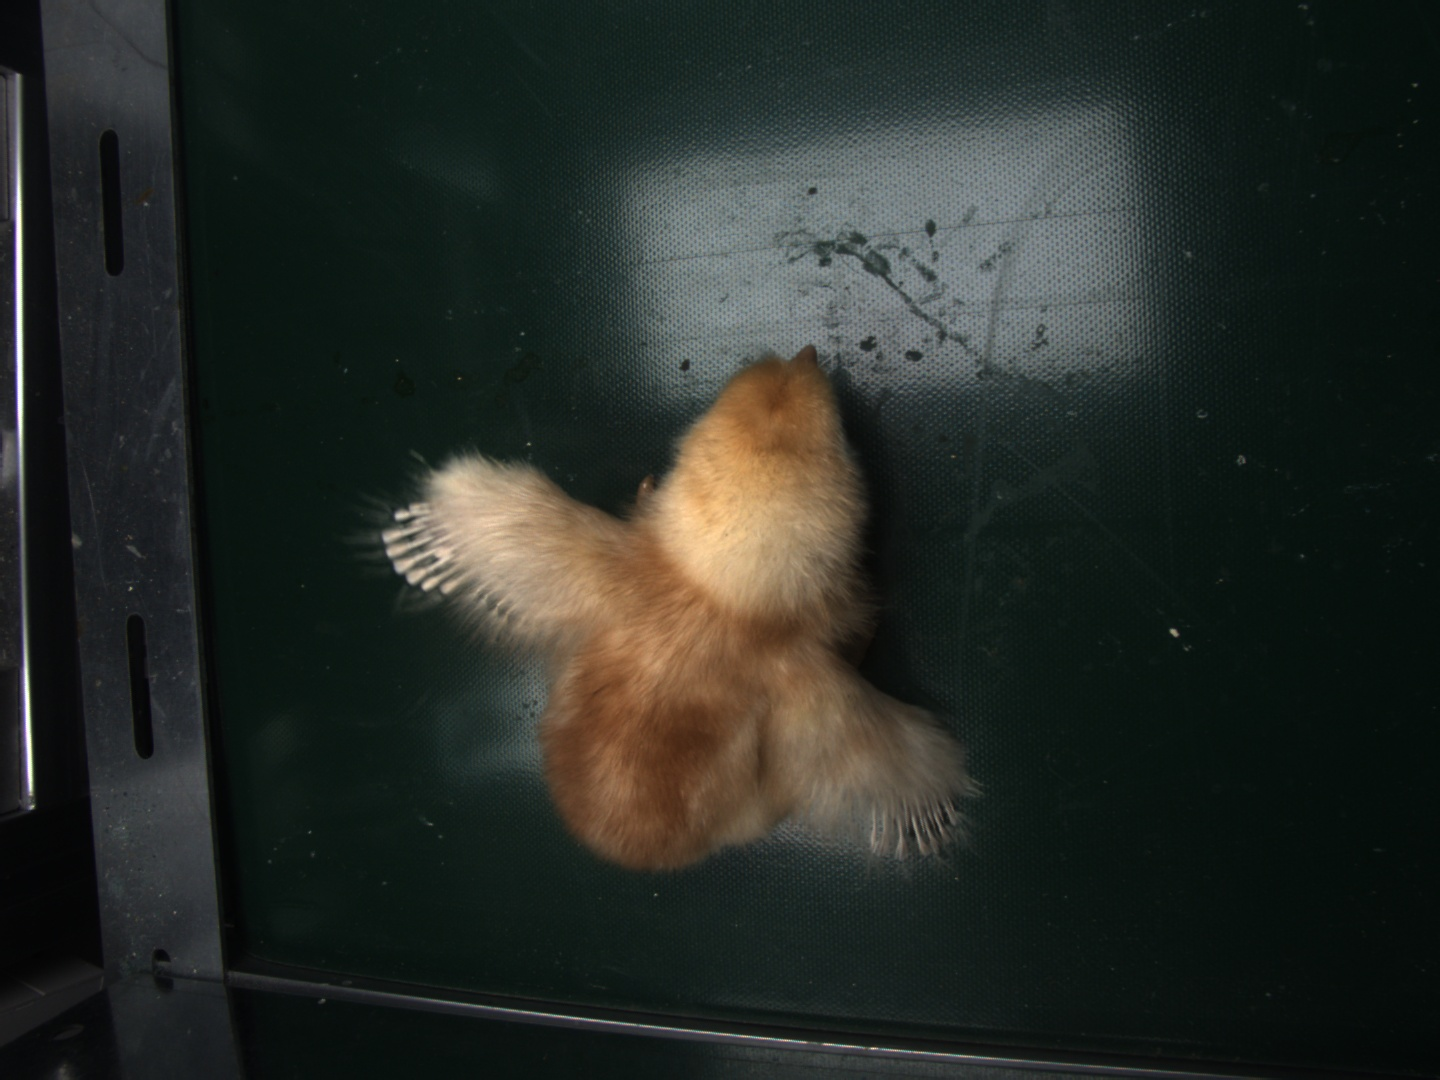female: (376, 507, 471, 594), (871, 781, 965, 858)
